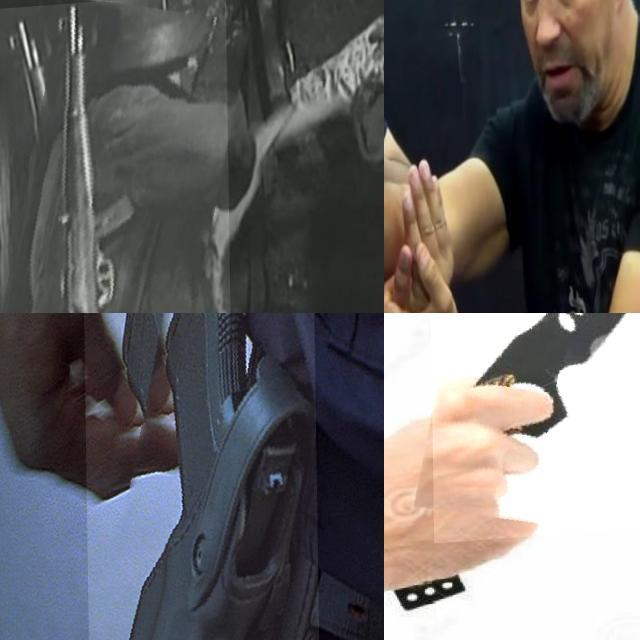-: (427, 313, 640, 548), (384, 71, 436, 313)
gun-knife-thesis - v11 Yolov5 augmented: (83, 313, 320, 640), (0, 0, 231, 313)
